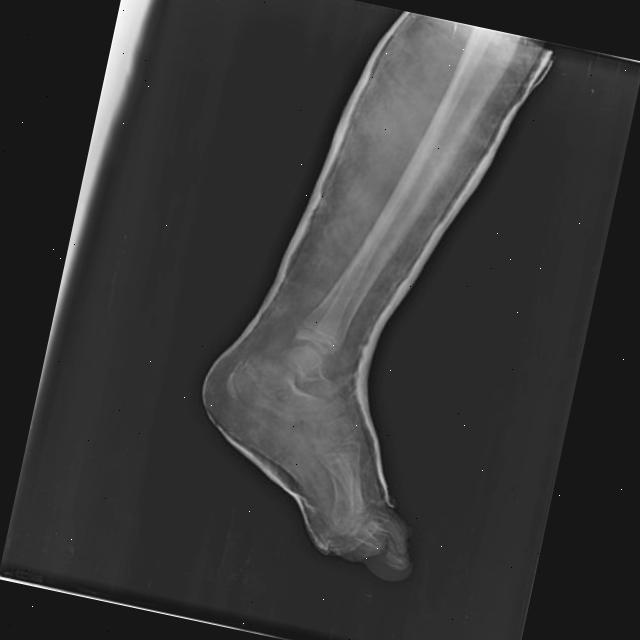fractured: (290, 319, 318, 346)
